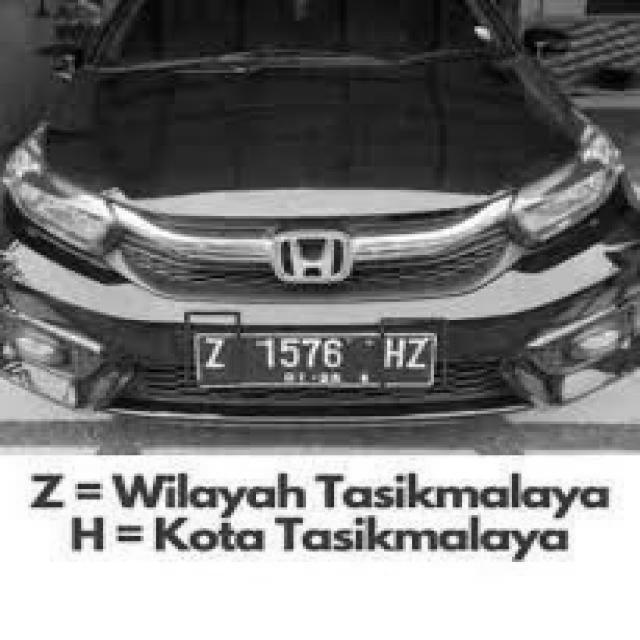1: (260, 336, 278, 376)
5: (280, 335, 302, 370)
6: (322, 335, 344, 373)
7: (302, 335, 323, 373)
H: (382, 335, 407, 377)
Z: (202, 332, 232, 385), (404, 330, 430, 368)
